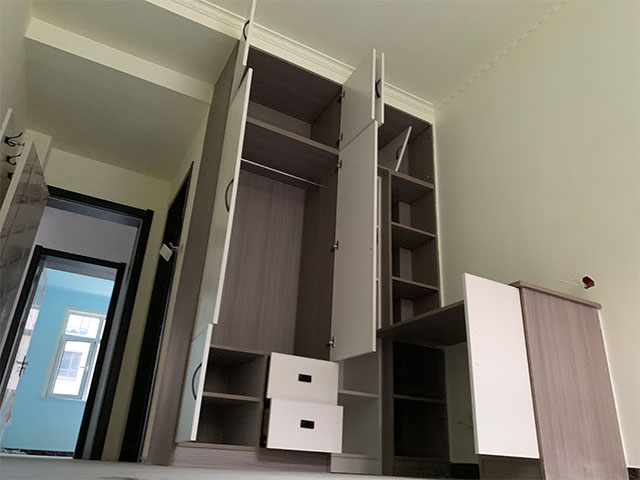cabinet: (145, 326, 421, 479)
